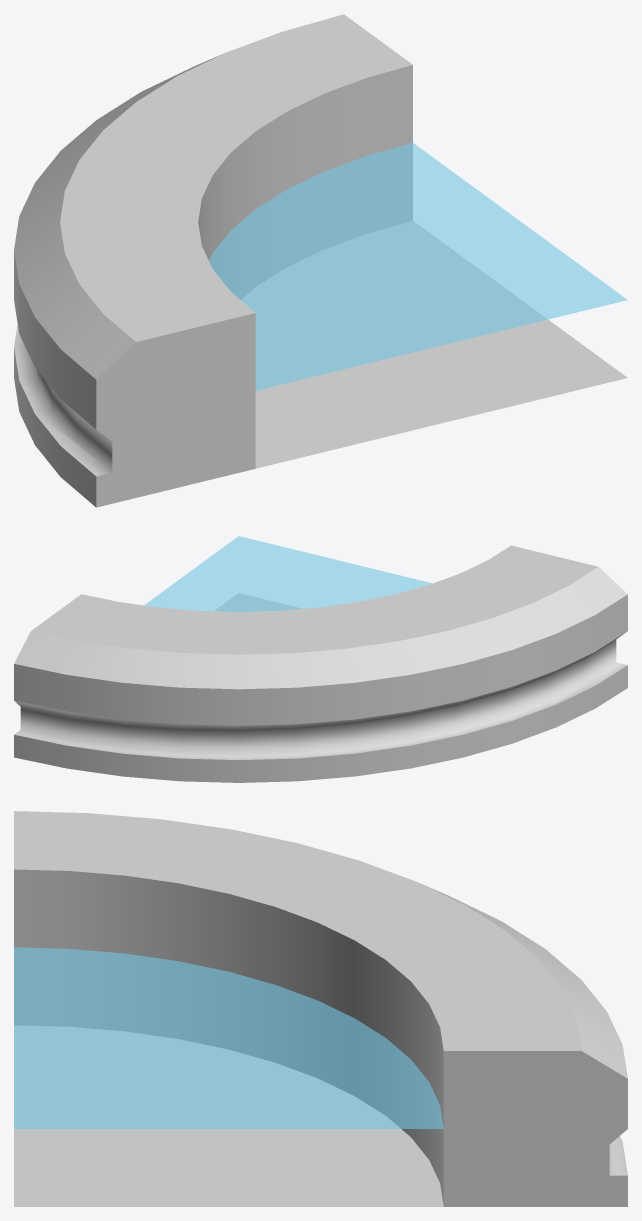
The model's file is fountain-curved.glb.
3 views of the same model, one above another, from view 1: azimuth 30°, elevation 25°; view 2: azimuth 150°, elevation 25°; view 3: azimuth 270°, elevation 25° (orthographic). The views are drawn at different scales.
Visible parts, largest first — view 1: fountain-curved, (%ignore); view 2: fountain-curved, (%ignore); view 3: fountain-curved, (%ignore).
Boxes of the visible parts, bbox=[...] form: fountain-curved: bbox=[14, 14, 627, 507]; (%ignore): bbox=[209, 143, 627, 390]; fountain-curved: bbox=[14, 545, 627, 782]; (%ignore): bbox=[144, 536, 432, 611]; fountain-curved: bbox=[14, 811, 627, 1206]; (%ignore): bbox=[14, 947, 443, 1128].
Bounding box in the file's own units: 1 × 0.28 × 1.
